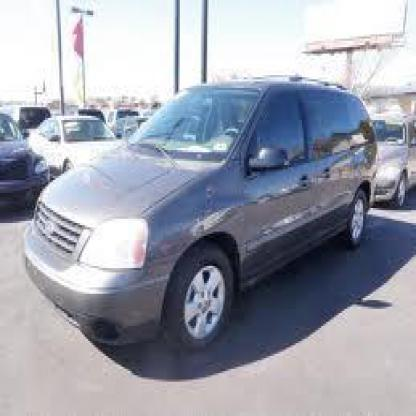Vehicle: (19, 84, 381, 356)
